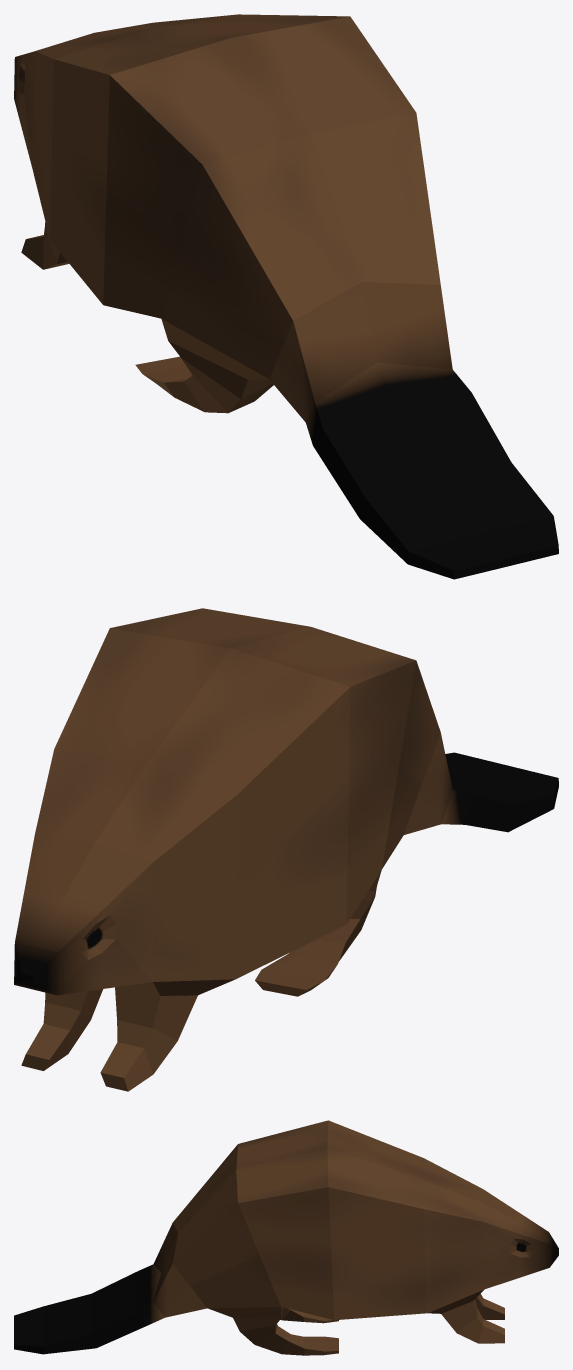
The model's file is Beaver.fbx.
3 views of the same model, one above another, from view 1: azimuth 30°, elevation 25°; view 2: azimuth 150°, elevation 25°; view 3: azimuth 270°, elevation 25° (orthographic). The views are drawn at different scales.
Parts seen in each view (by area): view 1: Beaver; view 2: Beaver; view 3: Beaver.
Boxes of the visible parts, x1,y1,x2,y2 form: Beaver: (14, 14, 558, 579); Beaver: (14, 608, 558, 1091); Beaver: (14, 1120, 558, 1355).
Size of the model in its own units: 136 by 176 by 464.
Materials: 2 (2 with a texture image).
